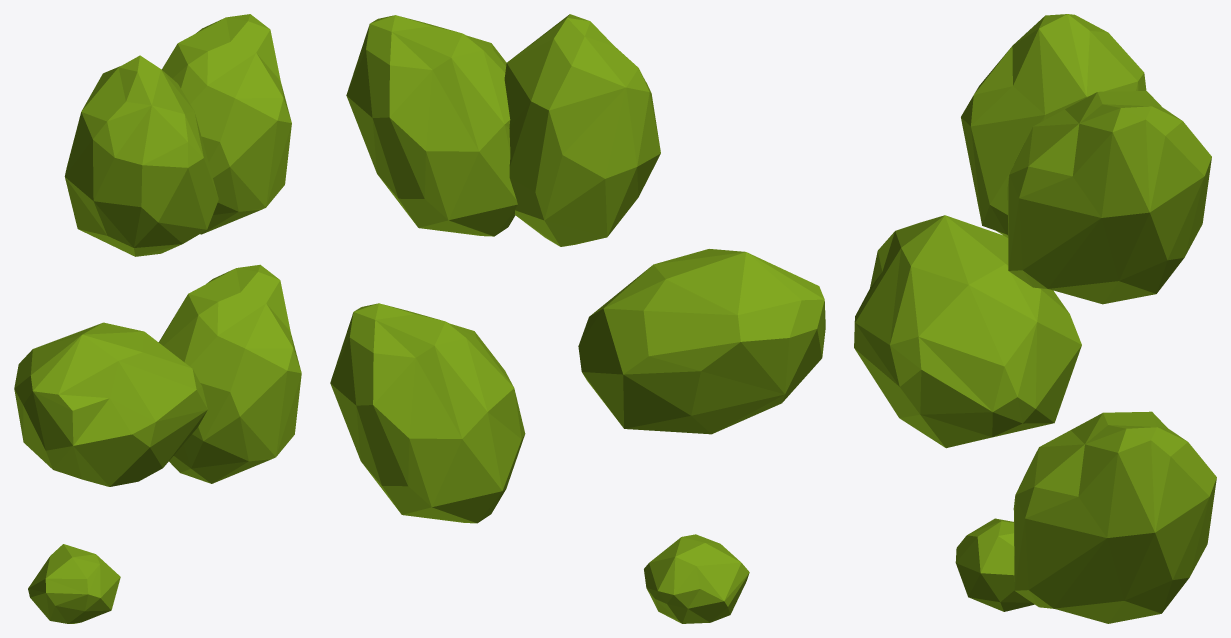
File: tree-summer-leaves-11-042.glb
3 views of the same model, side by side, from view 1: azimuth 30°, elevation 25°; view 2: azimuth 150°, elevation 25°; view 3: azimuth 270°, elevation 25° (orthographic). The views are drawn at different scales.
Parts seen in each view (by area): view 1: TREE 11_282; view 2: TREE 11_282; view 3: TREE 11_282.
Boxes of the visible parts, left/top/right/bottom form: TREE 11_282: left=14, top=14, right=301, bottom=623; TREE 11_282: left=330, top=14, right=825, bottom=623; TREE 11_282: left=854, top=14, right=1216, bottom=623.
Bounding box in the file's own units: 1.25 × 1.85 × 0.9391.
